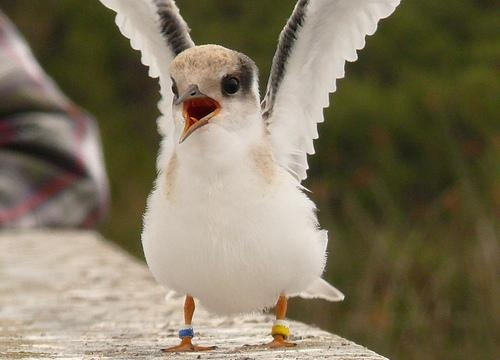bird: (78, 1, 408, 346)
